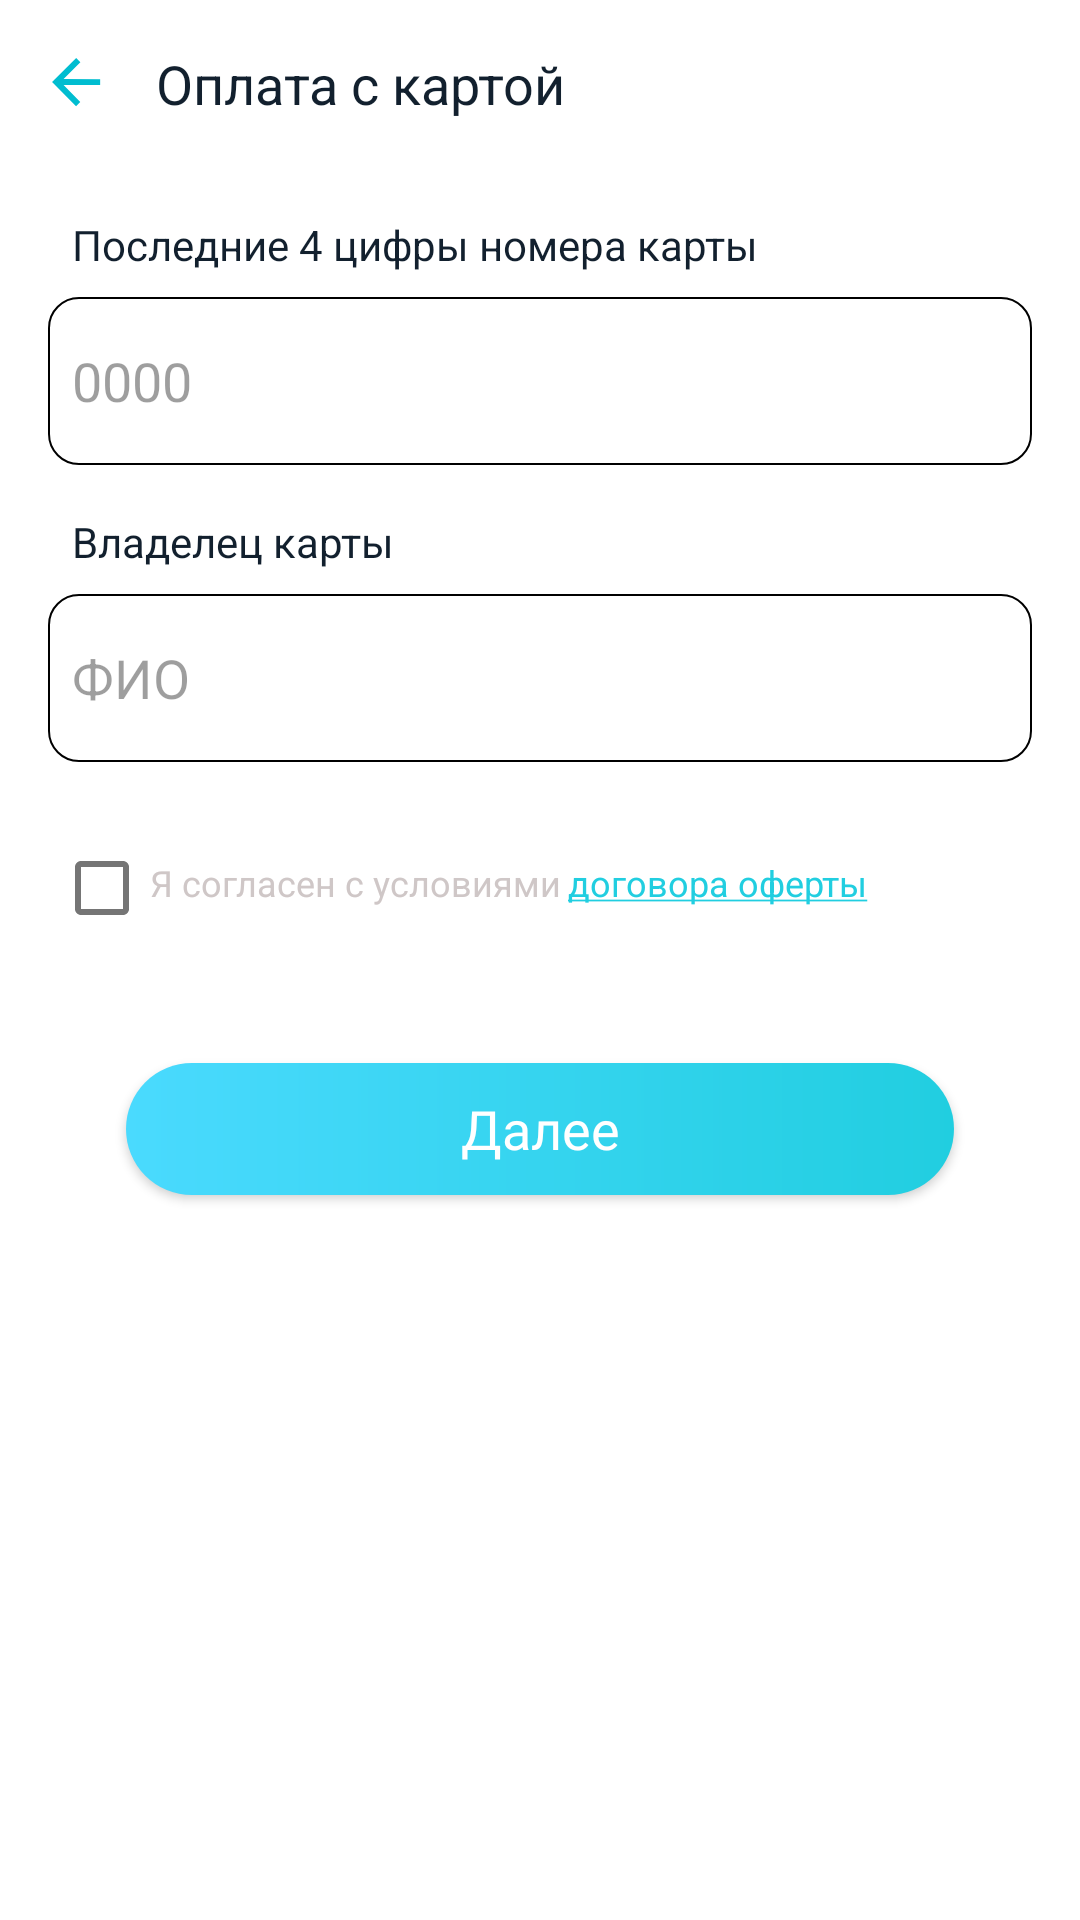

Screen size 1080px x 1920px. Icon name, then its center in pixels as [x,y]:
arrow back: [76,82]
